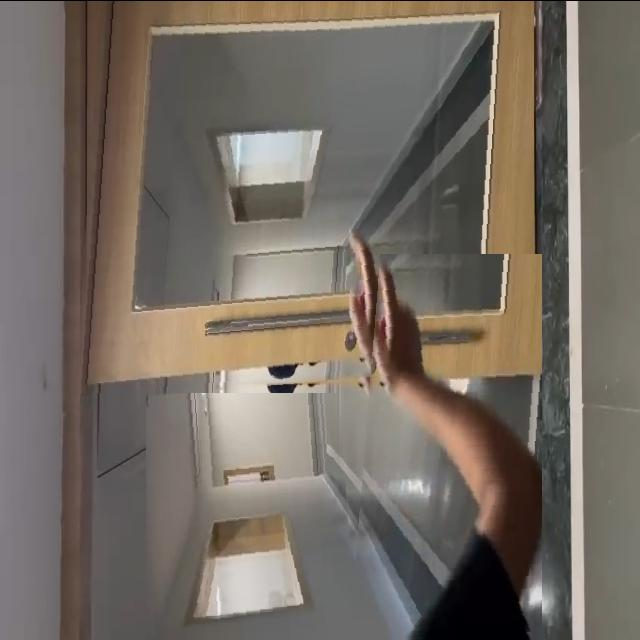door: (74, 0, 534, 402)
moving_object: (349, 253, 542, 640)
wall: (146, 392, 356, 640)
